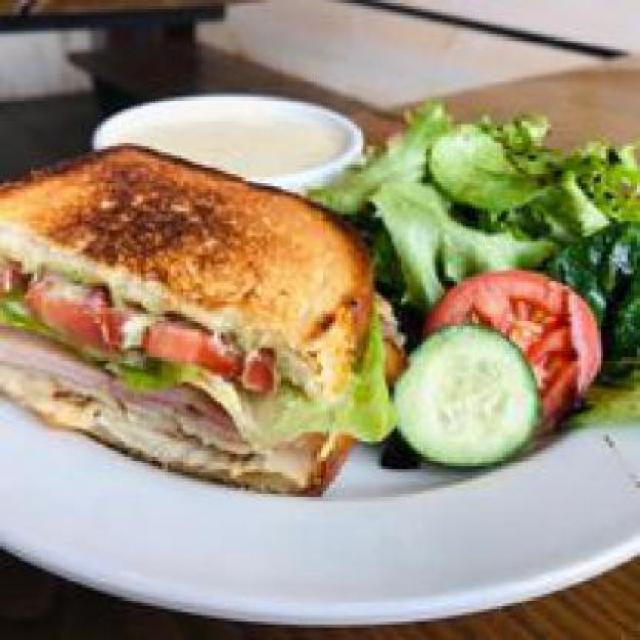clam chowder: (90, 84, 367, 193)
greek salad: (375, 100, 637, 482)
